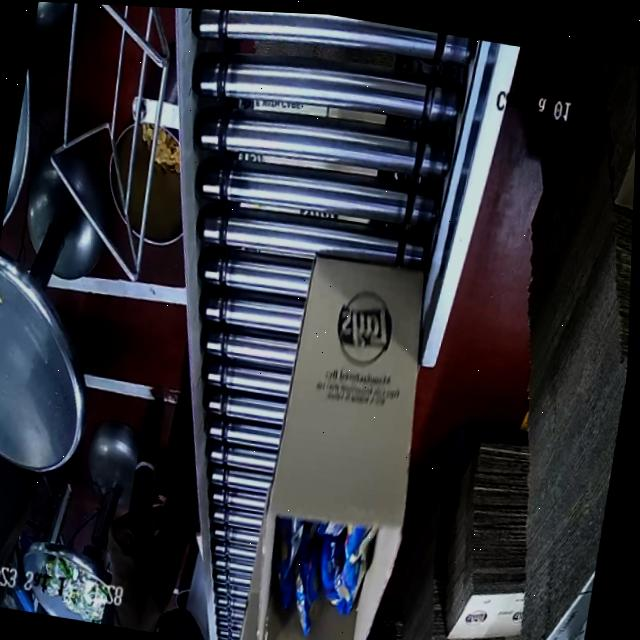PAPRIKA: (254, 504, 375, 640)
